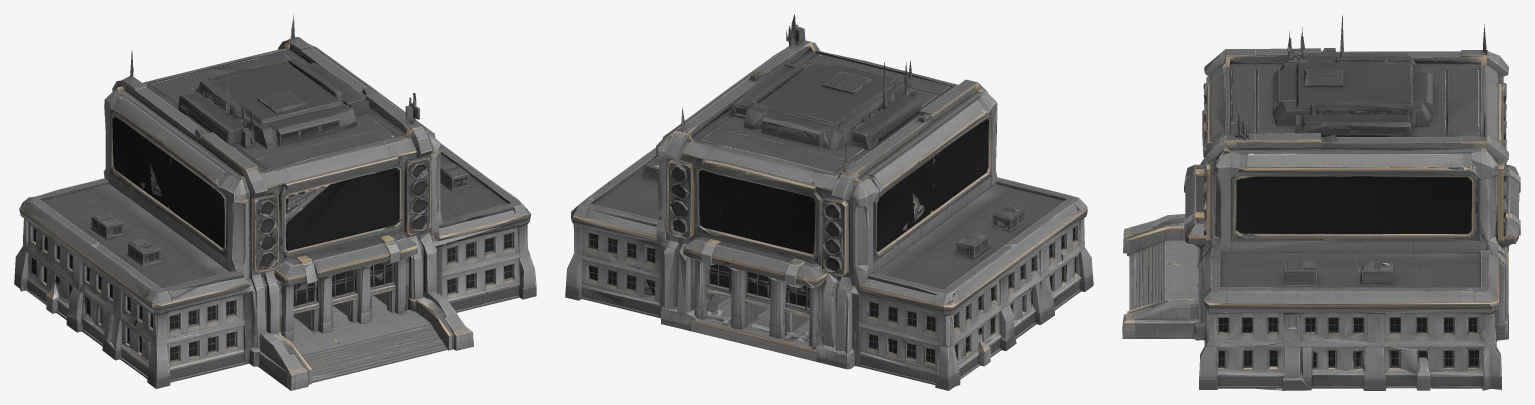
Rendered from imperial_propaganda_bureau_lod1.glb.
3 views of the same model, side by side, from view 1: azimuth 30°, elevation 25°; view 2: azimuth 150°, elevation 25°; view 3: azimuth 270°, elevation 25° (orthographic). The views are drawn at different scales.
Visible parts, largest first — view 1: mesh_node; view 2: mesh_node; view 3: mesh_node.
Boxes of the visible parts, x1,y1,x2,y2 form: mesh_node: (14,14,536,390); mesh_node: (565,14,1093,390); mesh_node: (1122,14,1520,390).
Size of the model in its own units: 25.89 by 15.24 by 21.93.
1 material, 1 textured.
